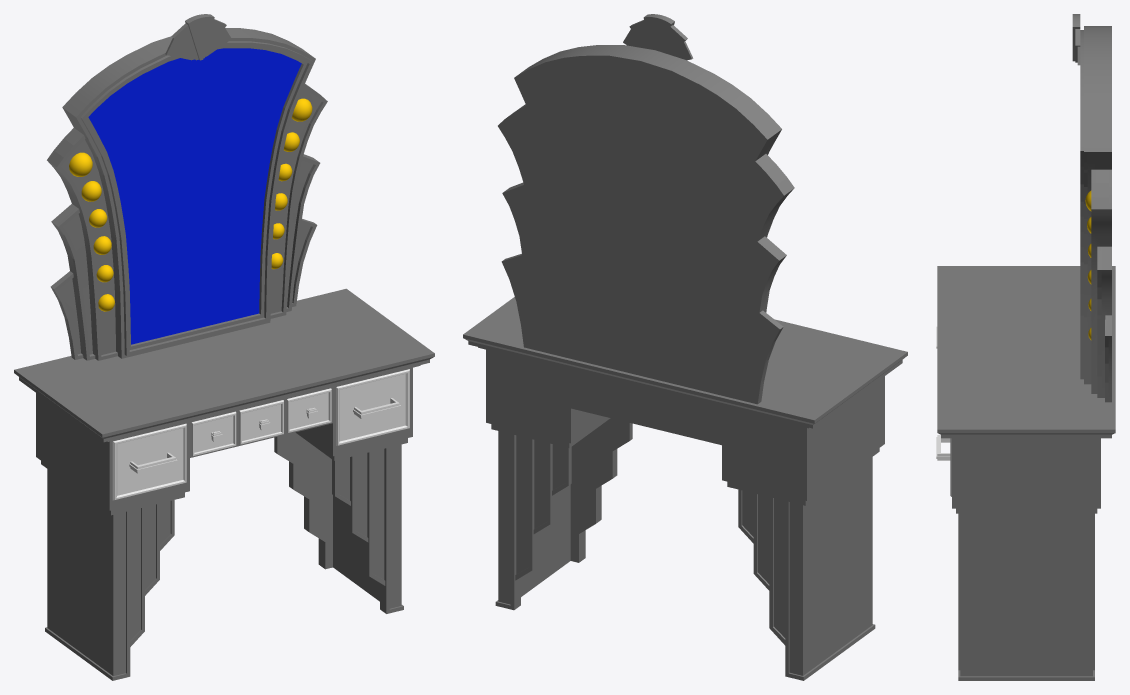
File: SM_DressingTableBigMirror_02.fbx
3 renders of one model, left to right at view 1: azimuth 30°, elevation 25°; view 2: azimuth 150°, elevation 25°; view 3: azimuth 270°, elevation 25°, orthographic. The views are drawn at different scales.
Visible parts, largest first — view 1: SM_Vanity_01, SM_BigDrawer_003, SM_BigDrawer_02, SM_LightMirror_01, SM_SmallDrawer_03, SM_SmallDrawer_02, SM_SmallDrawer_01; view 2: SM_Vanity_01; view 3: SM_Vanity_01, SM_LightMirror_01, SM_BigDrawer_02.
Boxes of the visible parts, x1=… form: SM_Vanity_01: x1=14, y1=14, x2=434, y2=680; SM_BigDrawer_003: x1=112, y1=423, x2=186, y2=500; SM_BigDrawer_02: x1=336, y1=369, x2=409, y2=445; SM_LightMirror_01: x1=69, y1=98, x2=312, y2=311; SM_SmallDrawer_03: x1=286, y1=388, x2=331, y2=432; SM_SmallDrawer_02: x1=191, y1=411, x2=236, y2=456; SM_SmallDrawer_01: x1=239, y1=400, x2=283, y2=444; SM_Vanity_01: x1=463, y1=14, x2=907, y2=680; SM_Vanity_01: x1=937, y1=14, x2=1115, y2=680; SM_LightMirror_01: x1=1085, y1=190, x2=1091, y2=340; SM_BigDrawer_02: x1=936, y1=435, x2=951, y2=496.
Bounding box in the file's own units: 104 × 175 × 48.25.
